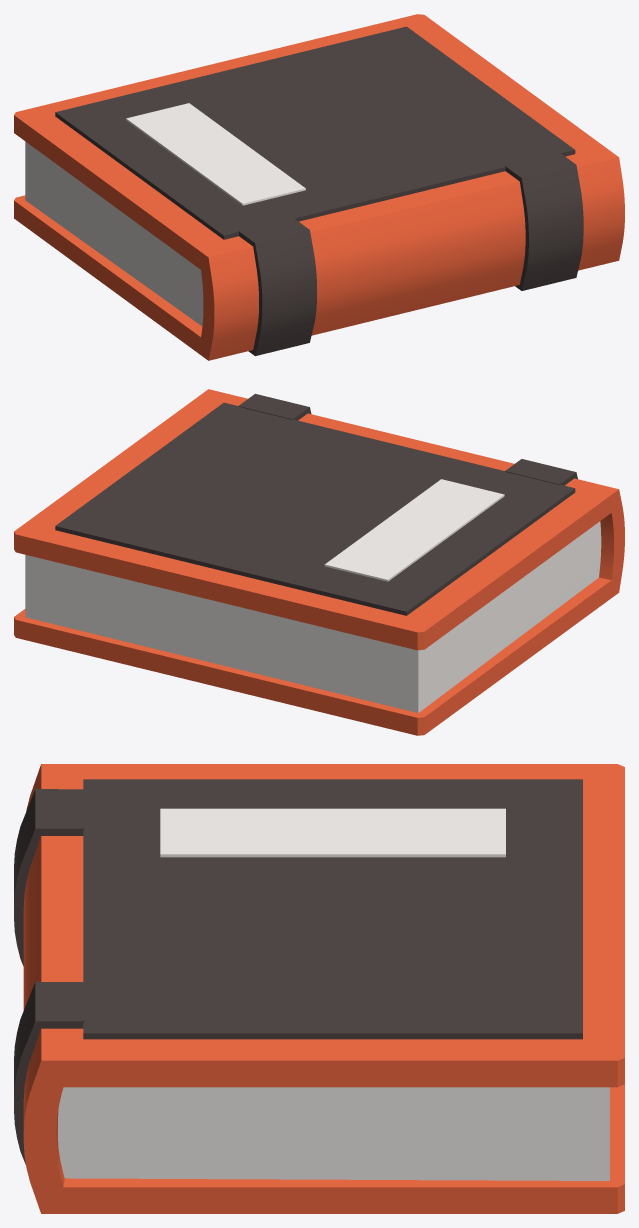
The model's file is book.fbx.
3 views of the same model, one above another, from view 1: azimuth 30°, elevation 25°; view 2: azimuth 150°, elevation 25°; view 3: azimuth 270°, elevation 25° (orthographic). The views are drawn at different scales.
Parts seen in each view (by area): view 1: book; view 2: book; view 3: book.
Part boxes in pixels (left/top/right/bottom): book: left=14, top=14, right=624, bottom=360; book: left=14, top=389, right=624, bottom=735; book: left=14, top=764, right=624, bottom=1213.
Size of the model in its own units: 0.2882 by 0.0767 by 0.2507.
